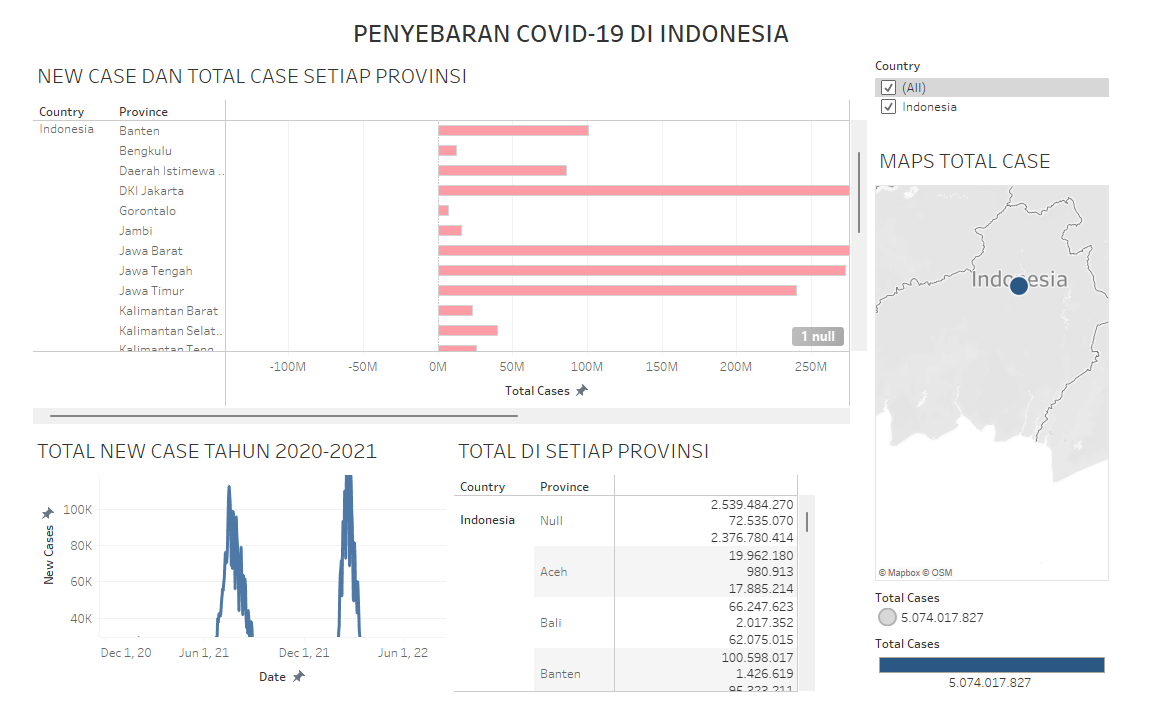

Layout of this report page (visuals, bound fields, positions):
{"tool":"tableau","page":{"name":"Dashboard 1","canvas":[1100,700],"ordinal":0},"visuals":[{"type":"title","box":[8,8,1084,41]},{"type":"worksheet","title":"Sheet 1","mark":"Bar","rows":["Country","Province"],"cols":["Total Cases"],"box":[8,49,842,374.8]},{"type":"filter","title":"Sheet 3","param":"[federated.06c86090m51gpx1b9y43a0f5gldt].[none:Country:nk]","box":[850,49,242,85]},{"type":"worksheet","title":"Sheet 4","mark":"Automatic","box":[850,134,242,447]},{"type":"worksheet","title":"Sheet 2","mark":"Line","rows":["New Cases"],"cols":["Date"],"box":[8,423.8,421,268.2]},{"type":"worksheet","title":"Sheet 3","mark":"Text","rows":["Country","Province"],"box":[429,423.8,421,268.2]},{"type":"legend","title":"Sheet 4","param":"[federated.06c86090m51gpx1b9y43a0f5gldt].[sum:Total Cases:qk]","box":[850,581,242,46]},{"type":"legend","title":"Sheet 4","param":"[federated.06c86090m51gpx1b9y43a0f5gldt].[sum:Total Cases:qk]","box":[850,627,242,65]}]}

Visuals, with their boxes in screenshot pixels (x1, y1, x2, y2), scaled from the page's 1100x700 canvas onto the 1150x720 screenshot:
title: [8, 8, 1142, 50]
"Sheet 1" worksheet (Bar marks): [8, 50, 889, 436]
"Sheet 3" filter: [889, 50, 1142, 138]
"Sheet 4" worksheet: [889, 138, 1142, 598]
"Sheet 2" worksheet (Line marks): [8, 436, 448, 712]
"Sheet 3" worksheet (Text marks): [448, 436, 889, 712]
"Sheet 4" legend: [889, 598, 1142, 645]
"Sheet 4" legend: [889, 645, 1142, 712]
